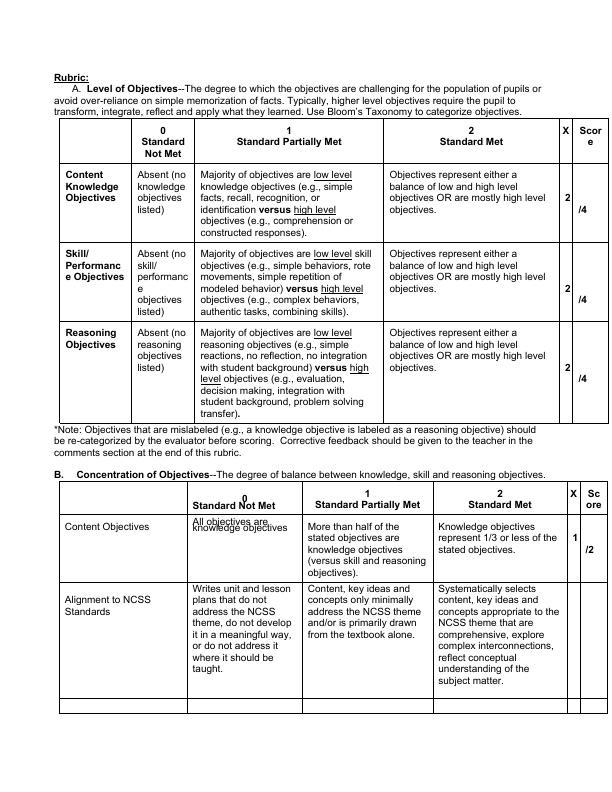table: (54, 117, 612, 426), (55, 478, 612, 719)
text: (50, 71, 545, 116), (49, 423, 545, 459), (51, 469, 549, 481)
